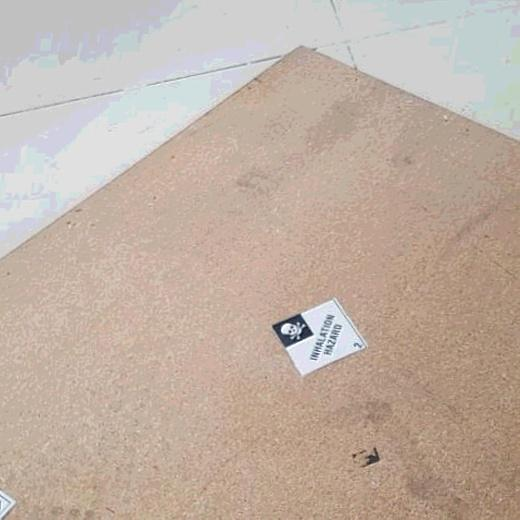poison: (265, 295, 376, 380)
